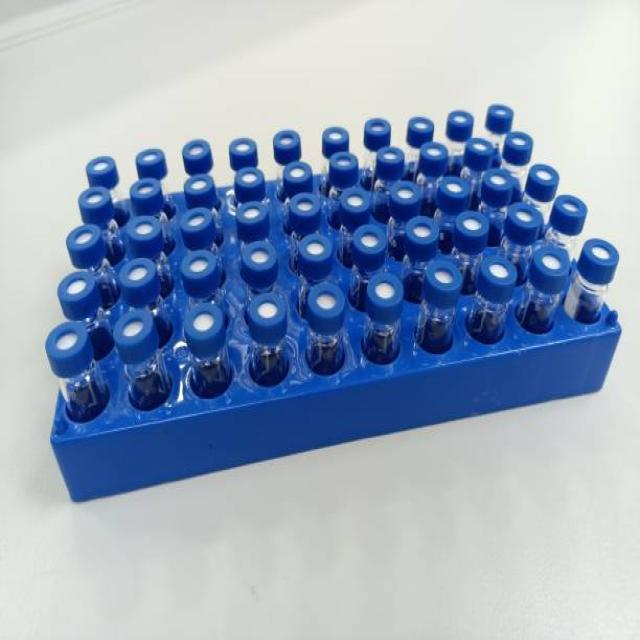vial: (44, 324, 92, 362), (365, 273, 405, 311), (184, 304, 224, 338), (240, 240, 278, 274), (250, 295, 292, 325), (405, 215, 441, 249), (352, 224, 390, 256), (428, 260, 462, 294), (310, 282, 346, 314), (530, 250, 570, 278), (580, 243, 616, 273), (183, 249, 219, 279), (124, 214, 160, 242), (439, 174, 472, 204), (234, 166, 267, 196), (118, 316, 158, 340), (298, 236, 332, 264), (68, 228, 104, 254), (481, 258, 514, 286), (554, 193, 588, 220), (130, 177, 164, 204), (455, 212, 489, 238), (280, 162, 318, 185), (288, 194, 324, 218), (530, 166, 566, 190), (180, 140, 212, 166), (59, 273, 93, 297), (186, 173, 216, 200), (317, 126, 350, 150), (131, 146, 167, 168), (120, 260, 152, 284), (509, 205, 539, 230), (390, 179, 420, 204), (237, 203, 271, 225), (272, 131, 304, 154), (342, 190, 372, 214), (484, 170, 514, 193), (329, 150, 359, 173), (84, 153, 115, 175), (228, 135, 256, 159), (364, 118, 394, 140), (183, 210, 215, 230), (80, 188, 109, 210), (508, 130, 534, 153), (468, 139, 496, 160), (376, 148, 404, 166), (448, 110, 474, 128), (422, 144, 448, 162), (408, 115, 432, 134), (493, 106, 514, 122)
